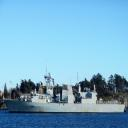Fragata: (4, 62, 127, 115)
